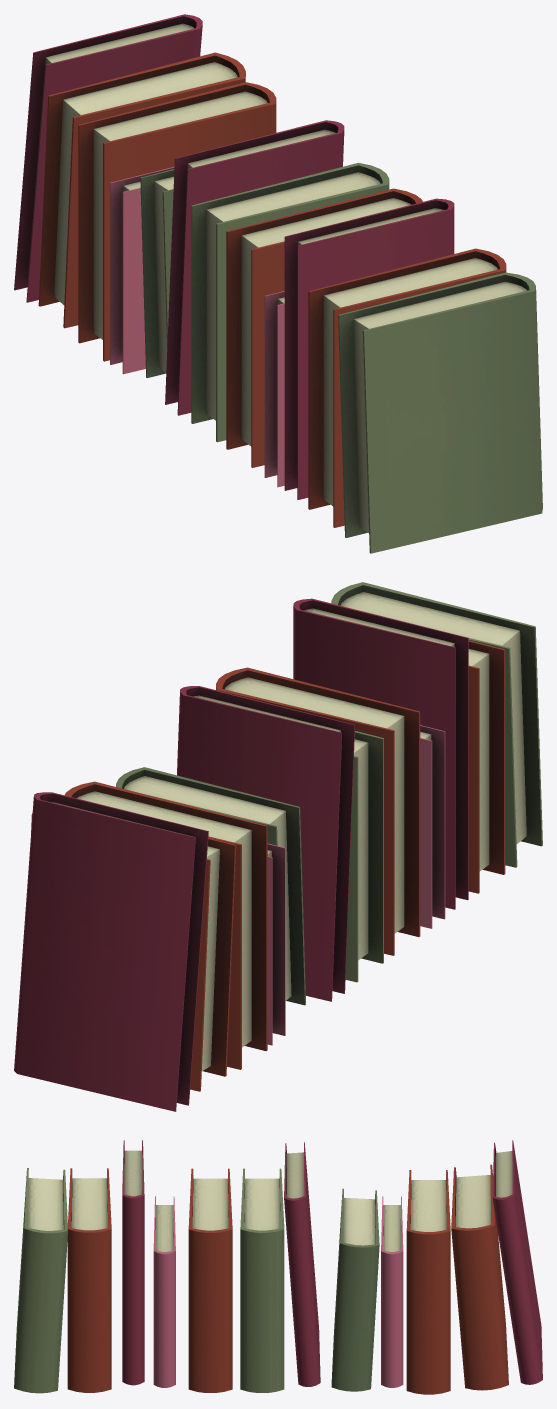
File: book_row_small_2.glb
3 views of the same model, one above another, from view 1: azimuth 30°, elevation 25°; view 2: azimuth 150°, elevation 25°; view 3: azimuth 270°, elevation 25° (orthographic). The views are drawn at different scales.
Visible parts, largest first — view 1: Small_Book_Row_2.smd; view 2: Small_Book_Row_2.smd; view 3: Small_Book_Row_2.smd.
Part boxes in pixels (x1=…): Small_Book_Row_2.smd: x1=14, y1=14, x2=542, y2=553; Small_Book_Row_2.smd: x1=14, y1=582, x2=542, y2=1111; Small_Book_Row_2.smd: x1=14, y1=1140, x2=542, y2=1394.
Size of the model in its own units: 0.2092 by 0.2866 by 0.7238.
5 materials, 5 textured.
